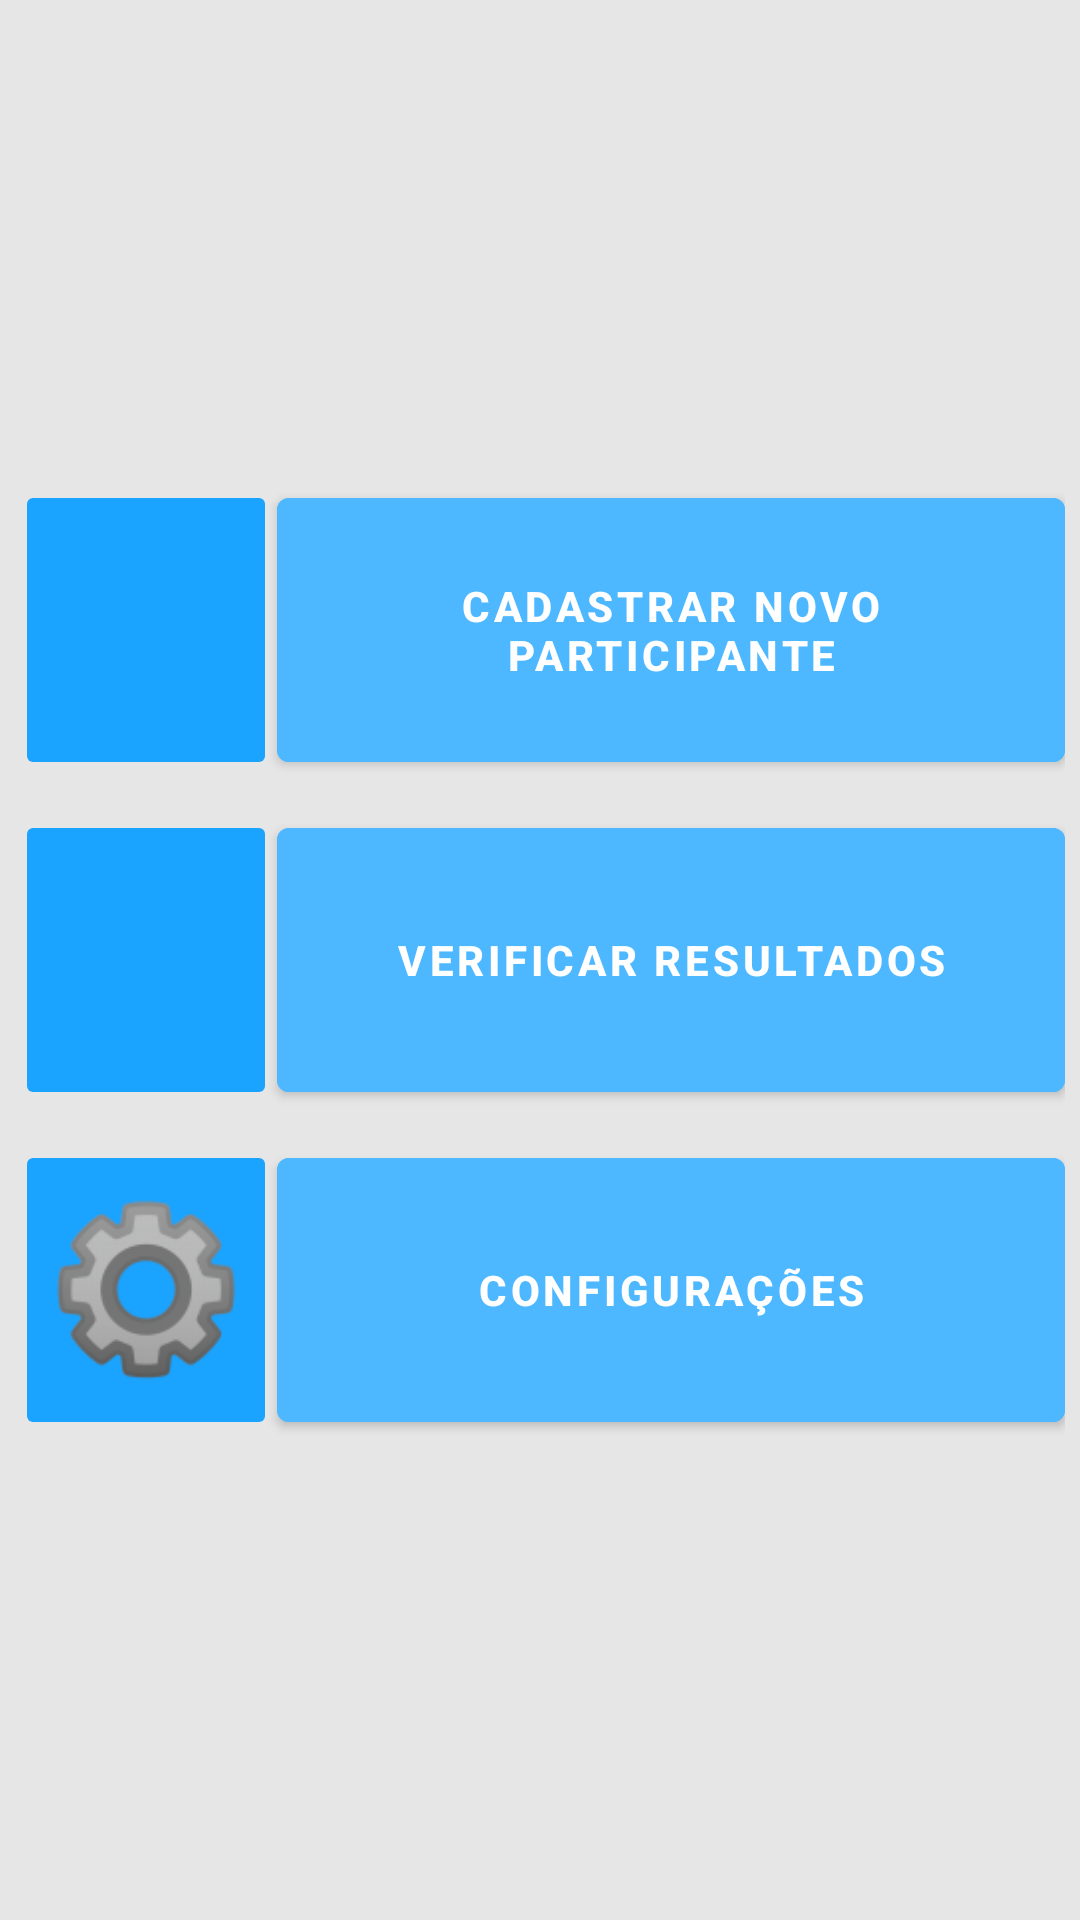

Icons on this 1080×1920 Android screen, each with the point to tap as [x,y]:
gear: [146,1290]
